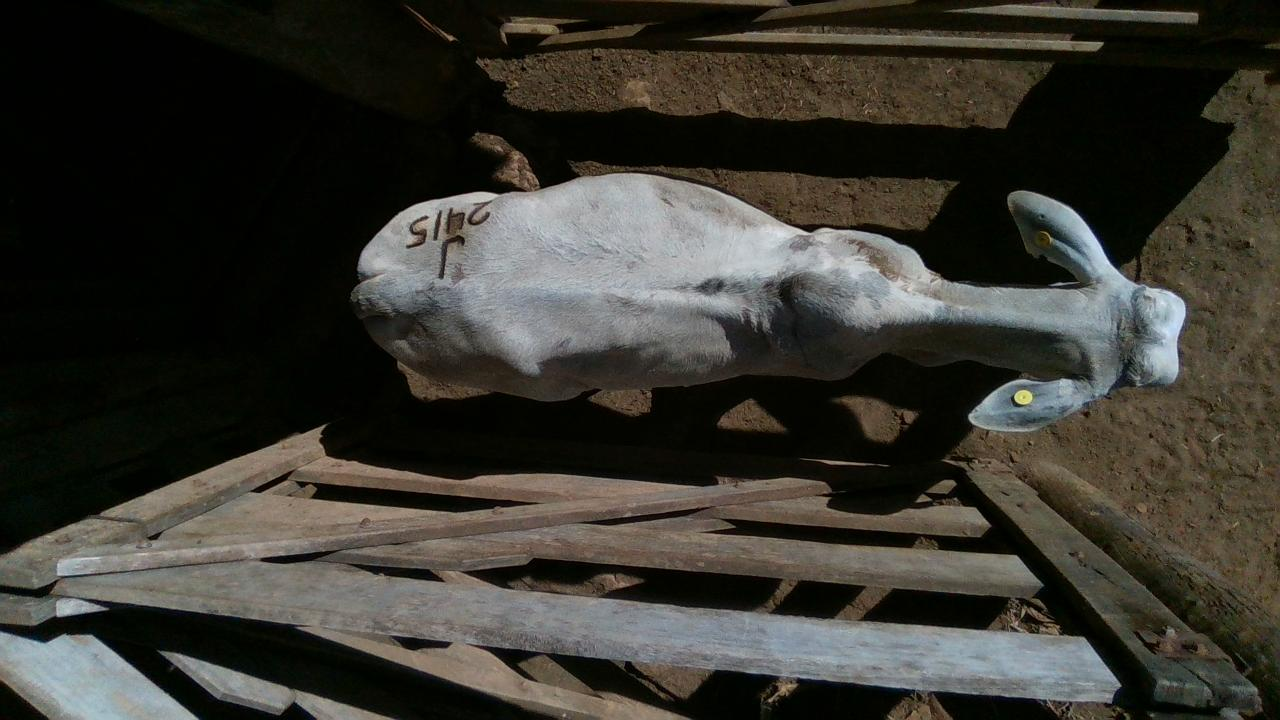cattle: (348, 168, 1187, 434)
